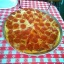pepperoni: (35, 21, 55, 40), (12, 28, 33, 43), (27, 35, 46, 50), (8, 14, 26, 24)
pizza: (8, 7, 61, 52)
